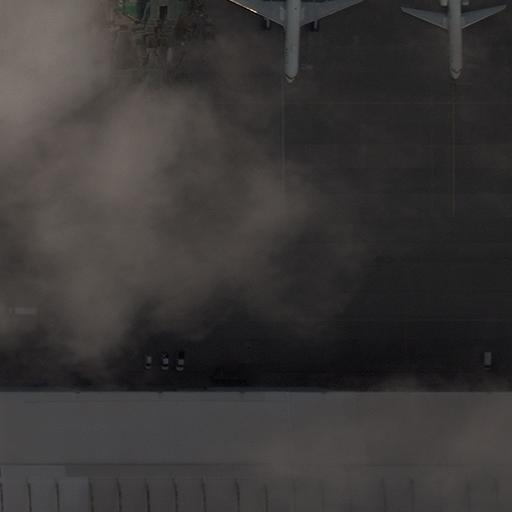Large Civil Transport: (224, 0, 364, 86)
Medium Civil Transport: (402, 0, 506, 83)
